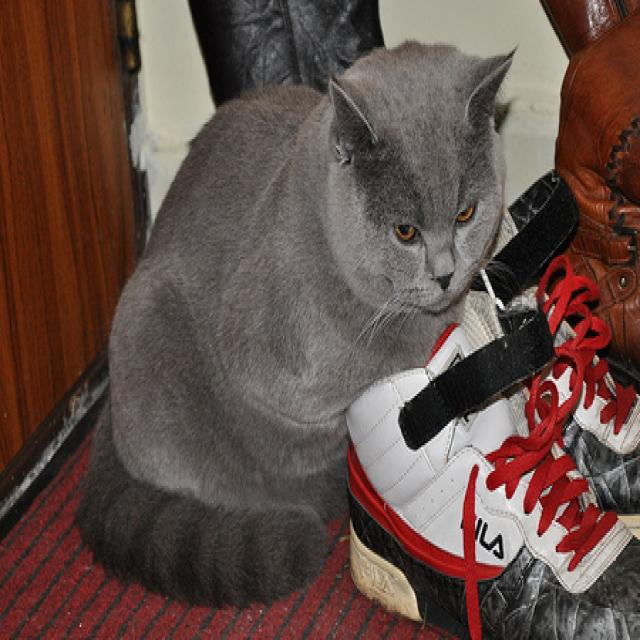British Shorthair: (72, 38, 521, 610)
